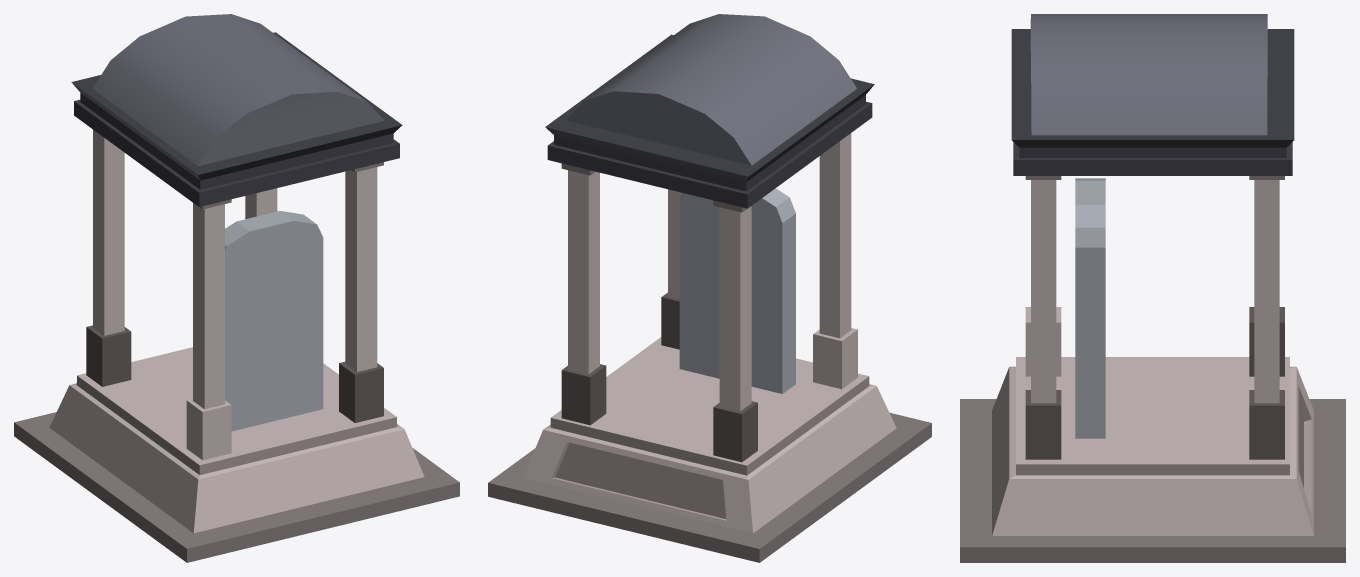
File: HWN20_Grave_24.gltf
3 renders of one model, left to right at view 1: azimuth 30°, elevation 25°; view 2: azimuth 150°, elevation 25°; view 3: azimuth 270°, elevation 25°, orthographic. The views are drawn at different scales.
Visible parts, largest first — view 1: HWN20_Grave_24_glb; view 2: HWN20_Grave_24_glb; view 3: HWN20_Grave_24_glb.
Boxes of the visible parts, x1,y1,x2,y2 form: HWN20_Grave_24_glb: [14, 14, 459, 562]; HWN20_Grave_24_glb: [488, 14, 931, 562]; HWN20_Grave_24_glb: [960, 14, 1345, 562].
Size of what is drawn, in the model's own units: 1.22 by 1.76 by 1.34.
1 material, 1 textured.
